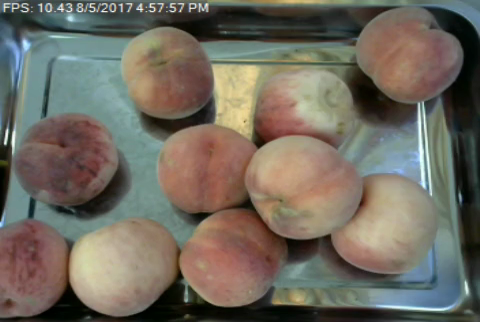Peach: (245, 135, 360, 239), (354, 7, 464, 104), (331, 175, 438, 274), (180, 208, 286, 307), (69, 218, 177, 315), (13, 111, 118, 205), (120, 26, 215, 119), (156, 122, 251, 214), (252, 69, 355, 148), (0, 220, 70, 317)
